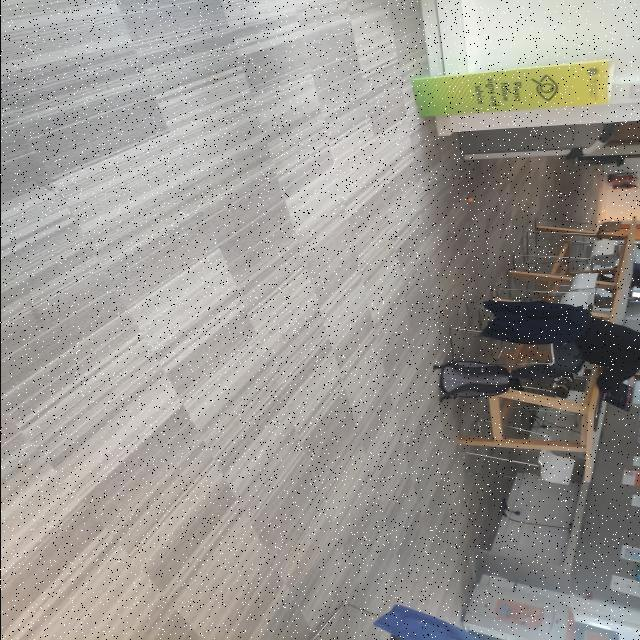ping-pong-ball: (465, 196, 473, 202)
